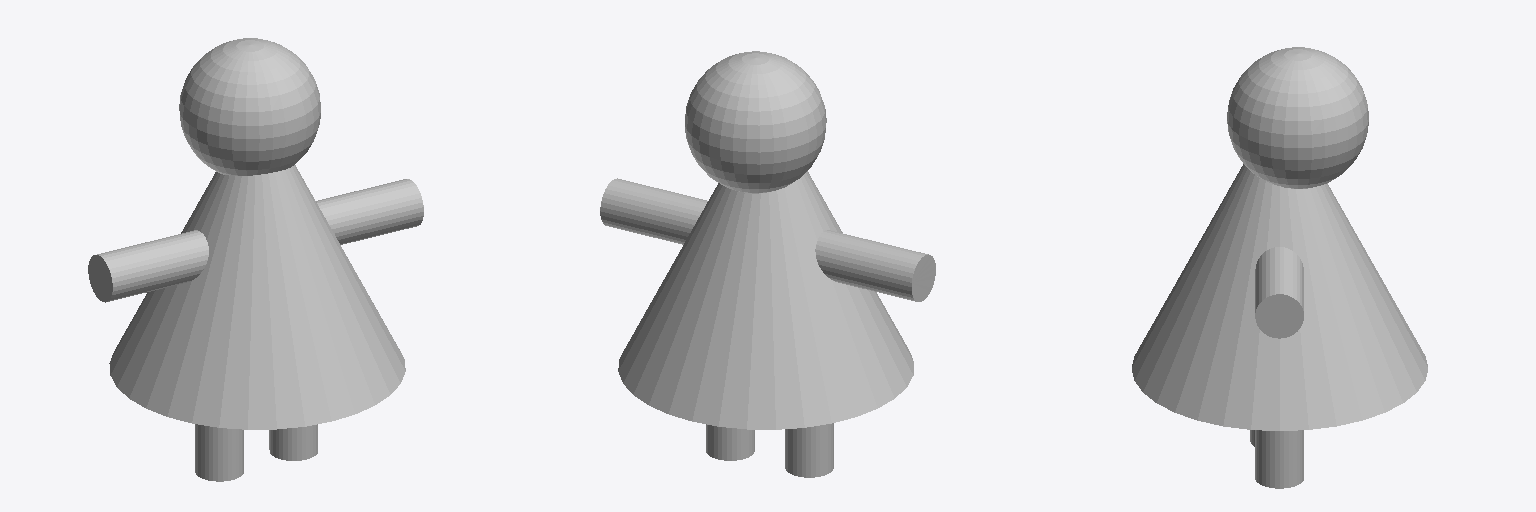
File: klyde.obj
The picture shows the model from 3 angles: view 1: azimuth 30°, elevation 25°; view 2: azimuth 150°, elevation 25°; view 3: azimuth 270°, elevation 25°; orthographic projection.
Parts seen in each view (by area): view 1: character; view 2: character; view 3: character.
Boxes of the visible parts, <box> form: character: <box>88,38,423,481</box>; character: <box>600,51,935,477</box>; character: <box>1132,47,1427,488</box>.
Size of the model in its own units: 0.7119 by 0.8909 by 0.5879.